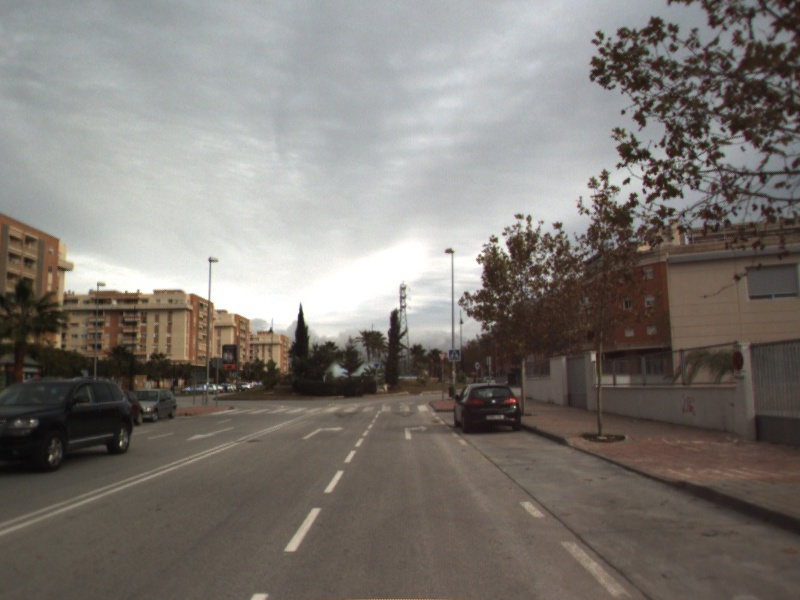RIGHT: (300, 424, 346, 441), (402, 423, 430, 441)
